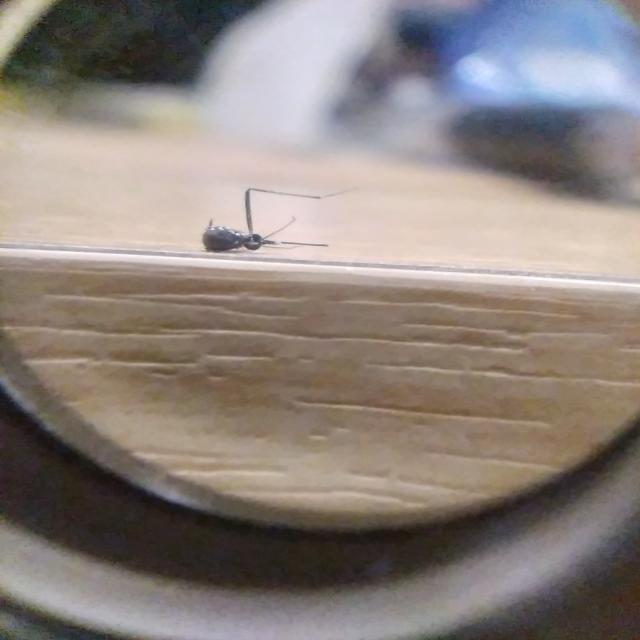albopictus: (191, 174, 360, 256)
